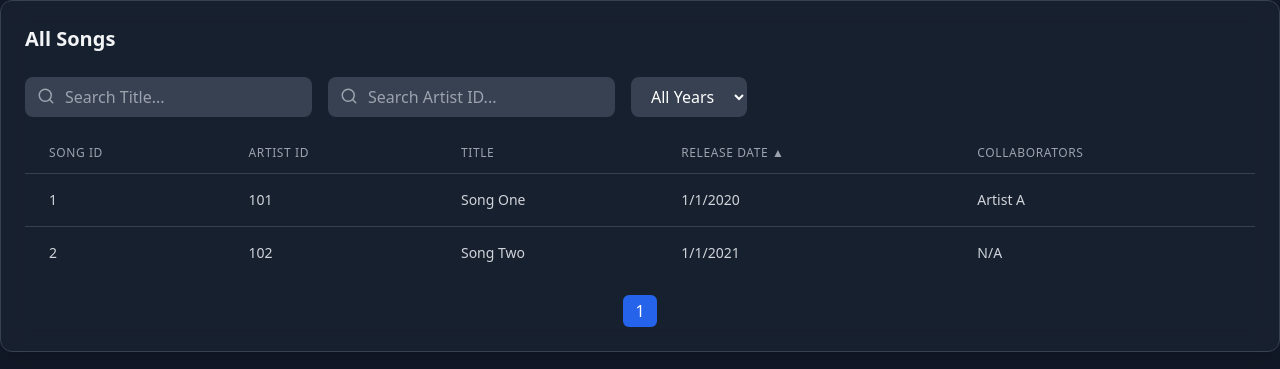
Test: AllSongs Component › toggles sorting when header is clicked
The width and height of the screenshot is (1280, 369).
Expected: the text "Song One" is shown, x1=437 y1=174 x2=657 y2=226
# Click to trigger sorting by title (and toggle sort order)
Click the column heading "Title" at (478, 152), box x1=437 y1=133 x2=657 y2=174
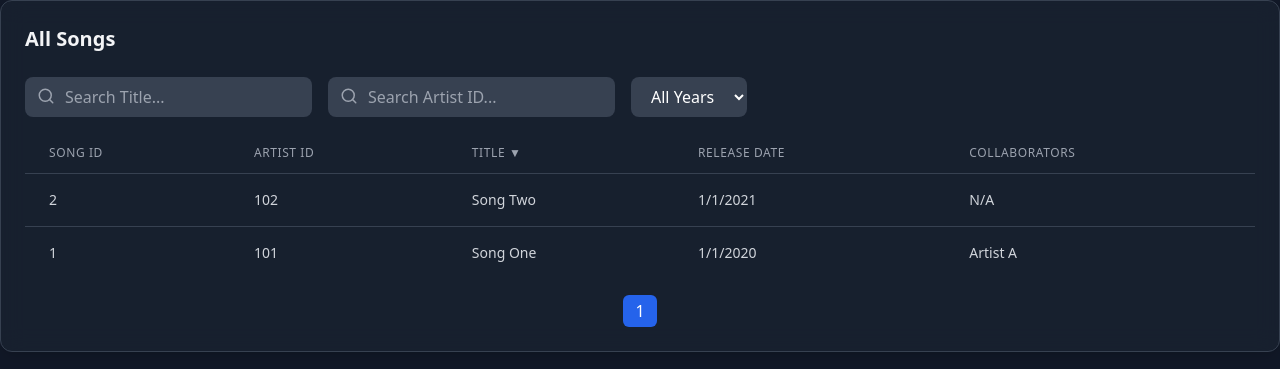
Expected: the column heading "Title ▼" is shown, x1=448 y1=133 x2=674 y2=174
